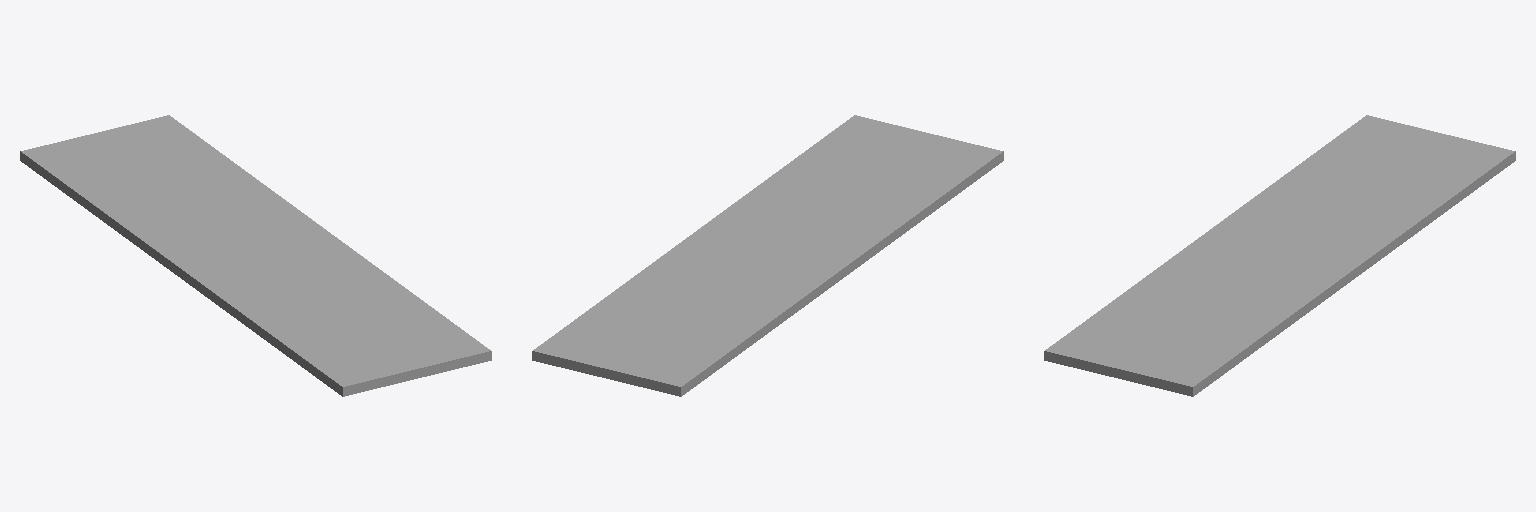
The robot description file, URDF, robot "table2":
<robot name="table2">
  <link name="table2_base_link">
    <visual>
      <origin rpy="0 0 3.14159" xyz="0.2 -0.52 -0.16"/>
      <geometry>
        <mesh filename="../meshes/table2.obj"  scale="0.0005 0.0005 0.0005"/>
      </geometry>
      <material name="tray_material">
        <color rgba="0.7 0.7 0.7 1"/>
      </material>
    </visual>
    <collision>
      <origin rpy="0 0 3.14159" xyz="0.2 -0.52 -0.16"/>
      <geometry>
        <mesh filename="../meshes/table2.obj" scale="0.0005 0.0005 0.0005"/>
      </geometry>
    </collision>
  </link>
</robot>

--- What the picture shows (computed from the rendered views, not written in the file) ---
The picture shows the robot from 3 angles, left to right: view 1: azimuth 30°, elevation 25°; view 2: azimuth 150°, elevation 25°; view 3: azimuth 330°, elevation 25°; orthographic projection.
Robot: table2 — 1 links, 0 joints (none); root link table2_base_link; default pose: all joints at 0.
Links seen in each view (by area): view 1: table2_base_link; view 2: table2_base_link; view 3: table2_base_link.
Boxes of the visible links, x1,y1,x2,y2 form: table2_base_link: (20, 115, 491, 396); table2_base_link: (532, 115, 1003, 396); table2_base_link: (1044, 115, 1515, 396).
Bounding box of the posed robot: 0.4 × 1.5 × 0.025 m (x, y, z).
Meshes: 1 distinct files referenced, 1 mesh visuals loaded (1 OBJ).